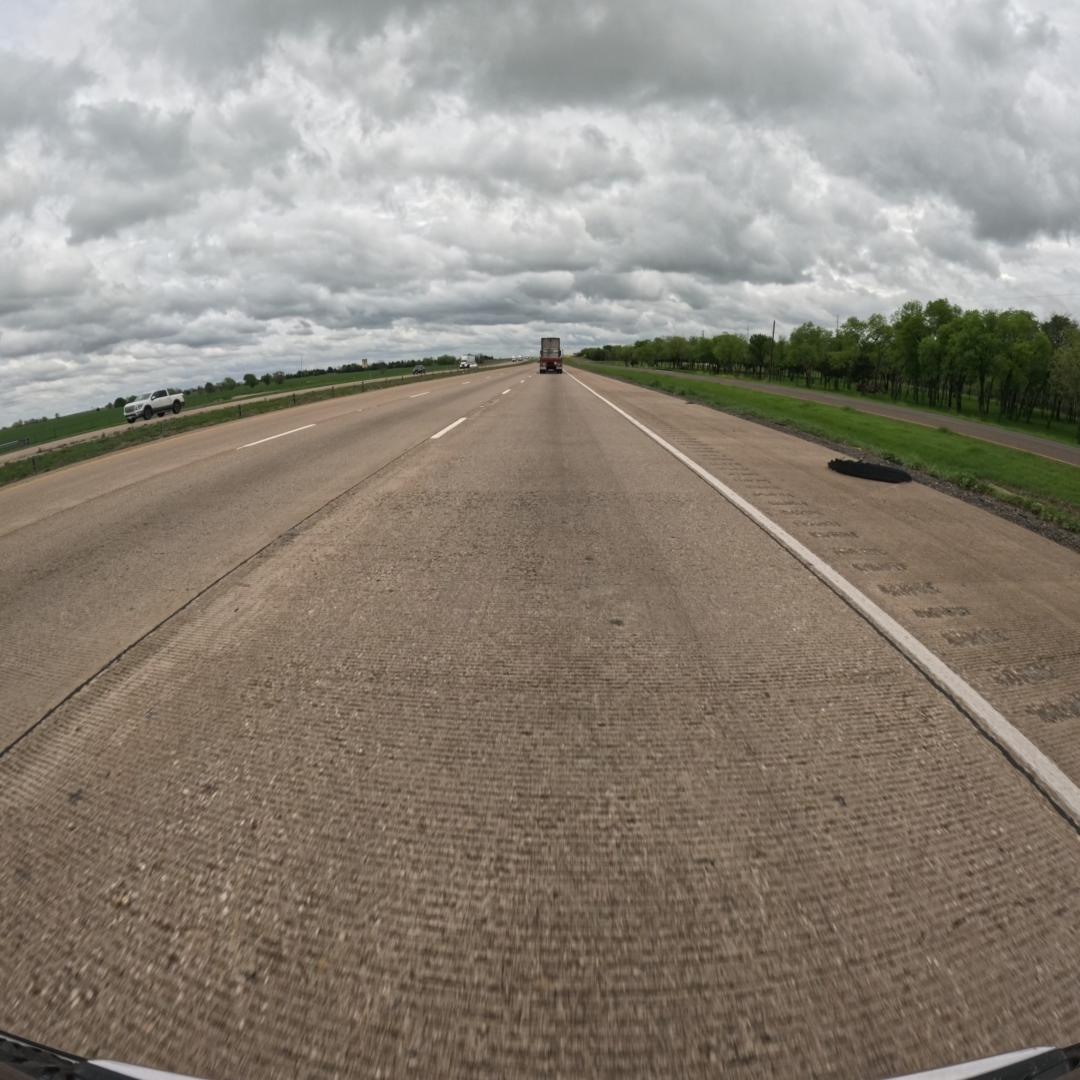lane-1: (0, 371, 527, 750)
lane0: (0, 373, 1080, 1076)
